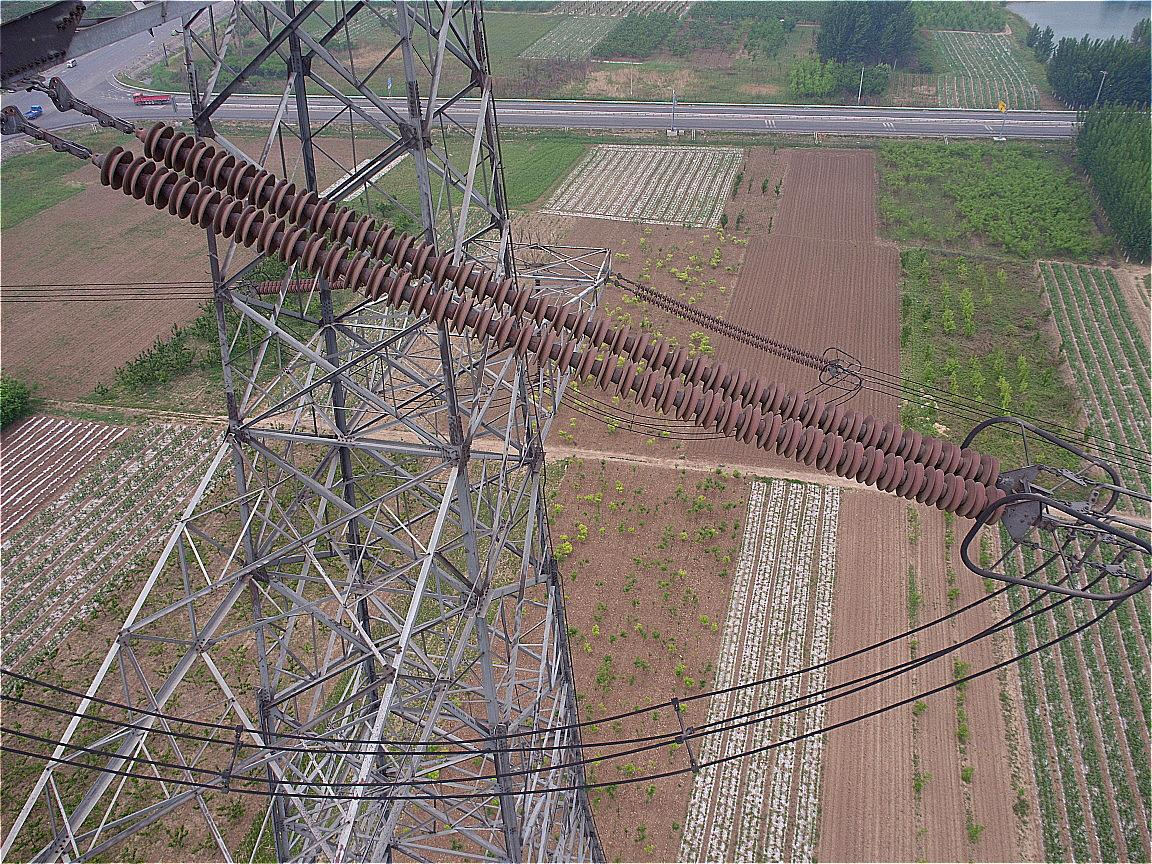insultor2: (93, 92, 1022, 547), (626, 273, 842, 376)
